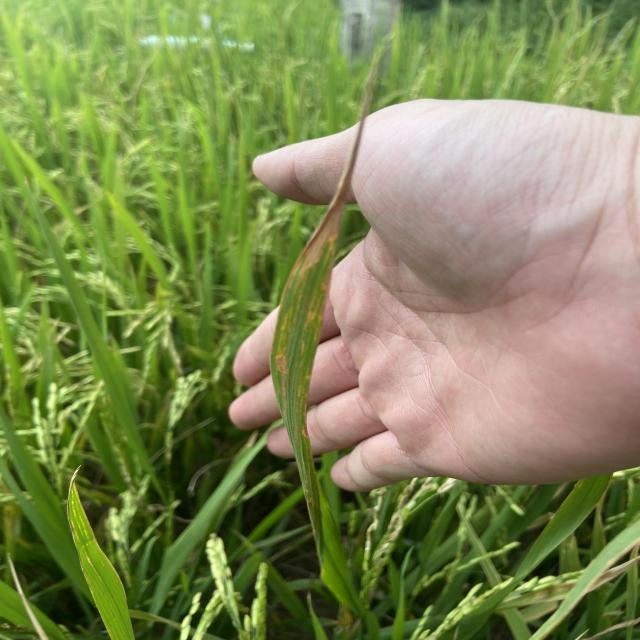Dom soc vi khuan: (276, 347, 289, 418), (296, 372, 303, 431), (292, 378, 297, 444), (296, 285, 307, 311), (298, 340, 305, 356)
